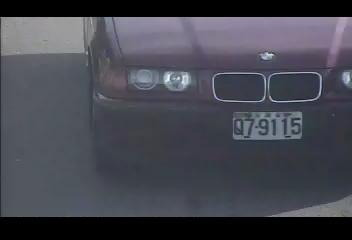plate: (230, 111, 304, 141)
